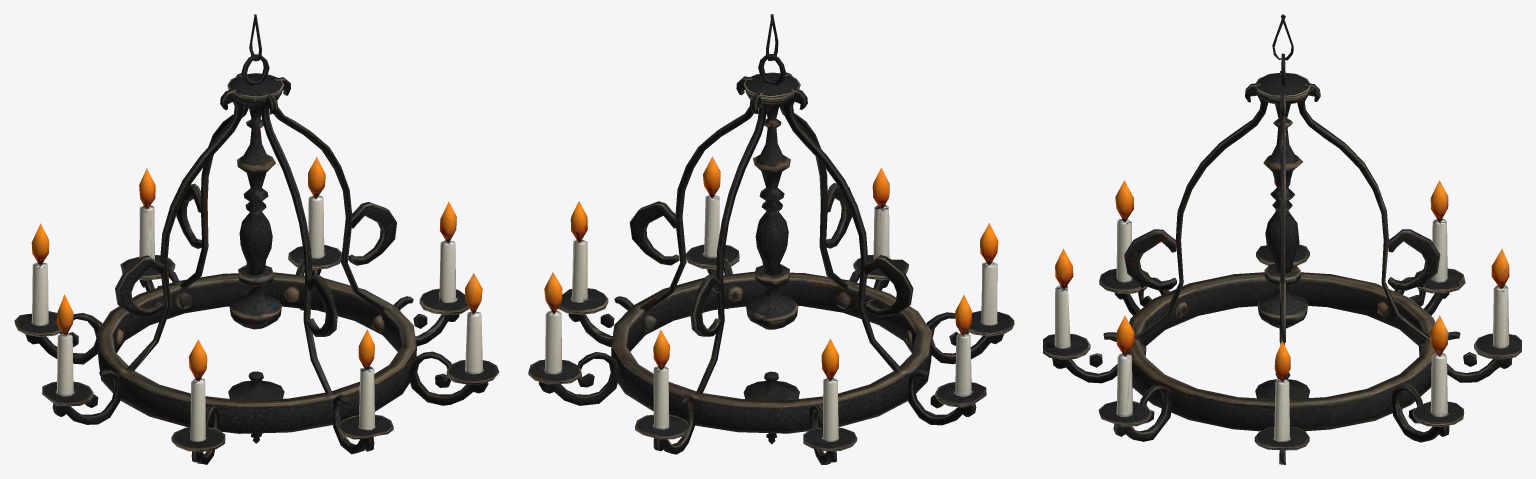
Rendered from castle-chandelier-v2.glb.
3 views of the same model, side by side, from view 1: azimuth 30°, elevation 25°; view 2: azimuth 150°, elevation 25°; view 3: azimuth 270°, elevation 25° (orthographic).
Parts seen in each view (by area): view 1: castle-chandelier-v2; view 2: castle-chandelier-v2; view 3: castle-chandelier-v2.
Part boxes in pixels (<box>): castle-chandelier-v2: <box>14,14,499,464</box>; castle-chandelier-v2: <box>528,14,1014,464</box>; castle-chandelier-v2: <box>1043,14,1521,464</box>.
Size of the model in its own units: 1 by 0.9865 by 1.
1 material, 1 textured.
